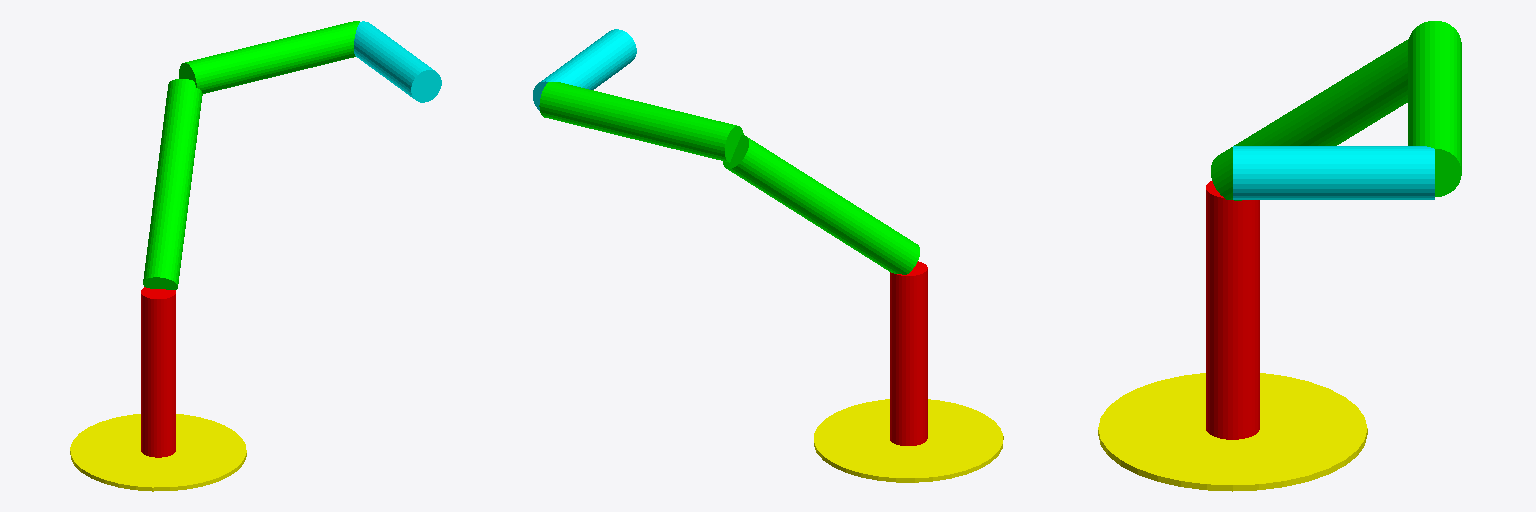
The robot description file, URDF, robot "simple_robot":
<robot name="simple_robot"> <!-- robot name- you decide -->
<!-- sequence : link-joint-link-joint-...-link... -->
<!-- units: meters for distance,rad in case of angles -->
<!-- first link called base_link -->
<link name= "base_link">
	<visual>
		<geometry>
			<cylinder length="0.01" radius="0.2"/>
		</geometry>
		<origin rpy="0 0 0" xyz="0 0 0"/> <!-- rpy: roll pitch yaw -> orientation xyz -> position --> 
		<material name= "base_color">
			<color rgba="1 1 0 1"/> 
		</material>
	</visual>

</link>
<!-- first joint-->
<joint name="joint1" type= "revolute"> <!-- types: revolute and prismatic -->
	<parent link="base_link"/>
	<child link="link1"/>
	<origin xyz ="0 0 0"/>
	<axis xyz="0 0 1"/>
	<limit effort="300" velocity="0.1" lower="-3.14159" upper="3.14159"/>
	<dynamics damping="50" friction="1"/>

</joint>
<!-- link1-->
<link name= "link1">
	<visual>
		<geometry>
			<cylinder length="0.4" radius="0.04"/>
		</geometry>
		<origin rpy="0 0 0" xyz="0 0 0.2"/> <!-- rpy: roll pitch yaw -> orientation xyz -> position --> 
		<material name= "link1_color">
			<color rgba="1 0 0 1"/> 
		</material>
	</visual>

</link>


<!-- second joint-->
<joint name="joint2" type= "revolute"> <!-- types: revolute and prismatic -->
	<parent link="link1"/>
	<child link="link2"/>
	<origin xyz ="0 0 0.4"/>
	<axis xyz="0 1 0"/>
	<limit effort="300" velocity="0.1" lower="-3.14159" upper="3.14159"/>
	<dynamics damping="50" friction="1"/>

</joint>
<!-- link2-->
<link name= "link2">
	<visual>
		<geometry>
			<cylinder length="0.5" radius="0.04"/>
		</geometry>
		<origin rpy="-0.65 0.65 0" xyz="0.125 0.15 0.175"/> <!-- rpy: roll pitch yaw -> orientation xyz -> position --> 
		<material name= "link2_color">
			<color rgba="0 1 0 1"/> 
		</material>
	</visual>

</link>

<!-- third joint-->
<joint name="joint3" type= "revolute"> <!-- types: revolute and prismatic -->
	<parent link="link2"/>
	<child link="link3"/>
	<origin xyz ="0.25 0.3 0.35"/>
	<axis xyz="1 0 0"/>
	<limit effort="300" velocity="0.1" lower="-3.14159" upper="3.14159"/>
	<dynamics damping="50" friction="1"/>

</joint>

<!-- link3-->
<link name= "link3">
	<visual>
		<geometry>
			<cylinder length="0.45" radius="0.04"/>
		</geometry>
		<origin rpy="0 1.5707 0" xyz="0.225 0 0"/> <!-- rpy: roll pitch yaw -> orientation xyz -> position --> 
		<material name= "link3_color">
			<color rgba="0 1 0 1"/> 
		</material>
	</visual>

</link>

<!-- fourth joint-->
<joint name="joint4" type= "revolute"> <!-- types: revolute and prismatic -->
	<parent link="link3"/>
	<child link="link4"/>
	<origin xyz ="0.45 0 0"/>
	<axis xyz="0 0 1"/>
	<limit effort="300" velocity="0.1" lower="-3.14159" upper="3.14159"/>
	<dynamics damping="50" friction="1"/>

</joint>

<!-- link4-->
<link name= "link4">
	<visual>
		<geometry>
			<cylinder length="0.3" radius="0.04"/>
		</geometry>
		<origin rpy="1.5707 0 0" xyz="0 -0.15 0"/> <!-- rpy: roll pitch yaw -> orientation xyz -> position --> 
		<material name= "link4_color">
			<color rgba="0 1 1 1"/> 
		</material>
	</visual>

</link>

<!-- fourth joint-->
<joint name="joint5" type= "fixed"> <!-- types: revolute and prismatic -->
	<parent link="link4"/>
	<child link="link5"/>
	<origin xyz ="0 -0.3 0"/>
	<axis xyz="0 -1 0"/>
	<limit effort="300" velocity="0.1" lower="-3.14159" upper="3.14159"/>
	<dynamics damping="50" friction="1"/>

</joint>

<!-- link5-->
<link name= "link5">
	<visual>
		<geometry>
			<cylinder length="0" radius="0"/>
		</geometry>
		<origin rpy="0 0 0" xyz="0 0 0"/> <!-- rpy: roll pitch yaw -> orientation xyz -> position --> 
		<material name= "link5_color">
			<color rgba="0 0 1 1"/> 
		</material>
	</visual>

</link>


</robot>

--- Render facts (derived) ---
Views: 3 orthographic renders of the robot side by side, from view 1: azimuth 30°, elevation 25°; view 2: azimuth 150°, elevation 25°; view 3: azimuth 270°, elevation 25°.
Robot: simple_robot — 6 links, 5 joints (4 revolute, 1 fixed); root link base_link; default pose: all joints at 0.
Visible links, largest first — view 1: base_link, link2, link3, link1, link4; view 2: base_link, link2, link3, link1, link4; view 3: base_link, link1, link4, link2, link3.
Boxes of the visible links, x1,y1,x2,y2 form: base_link: (70, 414, 246, 491); link2: (143, 79, 202, 289); link3: (179, 21, 359, 93); link1: (141, 287, 175, 457); link4: (354, 21, 441, 102); base_link: (814, 399, 1003, 482); link2: (723, 135, 919, 274); link3: (539, 82, 743, 162); link1: (890, 261, 927, 445); link4: (533, 29, 636, 110); base_link: (1098, 373, 1367, 491); link1: (1206, 181, 1259, 439); link4: (1233, 146, 1434, 199); link2: (1211, 39, 1408, 200); link3: (1408, 21, 1461, 196).
Size in the robot's own frame: 0.94 by 0.54 by 0.795 metres.
Geometry: primitives only (box / cylinder / sphere), no mesh files.